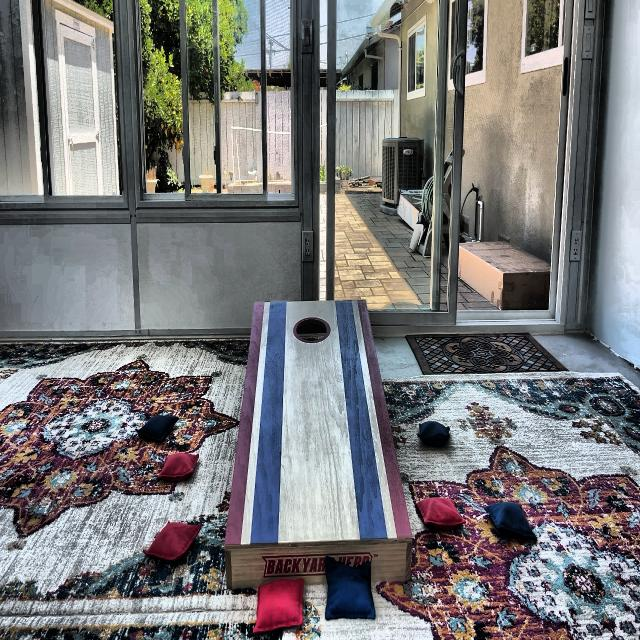blue-bean-bag: (324, 558, 376, 620), (485, 501, 536, 539), (137, 414, 178, 443), (417, 422, 450, 444)
board: (248, 301, 374, 539)
hole: (293, 315, 331, 343)
red-bean-bag: (254, 577, 304, 632), (144, 521, 201, 562), (415, 496, 464, 526), (158, 450, 199, 477)
